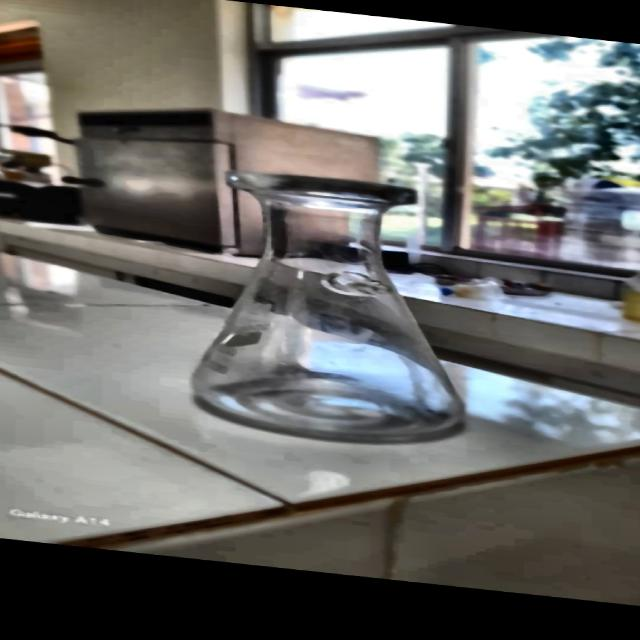Filtration Flask: (201, 154, 468, 453)
